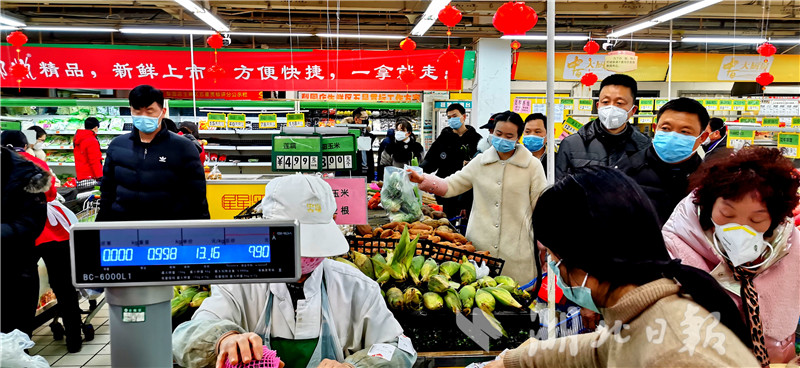rightmask: (694, 143, 798, 273), (652, 92, 704, 174), (597, 71, 637, 146), (130, 87, 170, 145), (491, 106, 529, 165), (521, 108, 552, 157), (446, 101, 471, 137)
